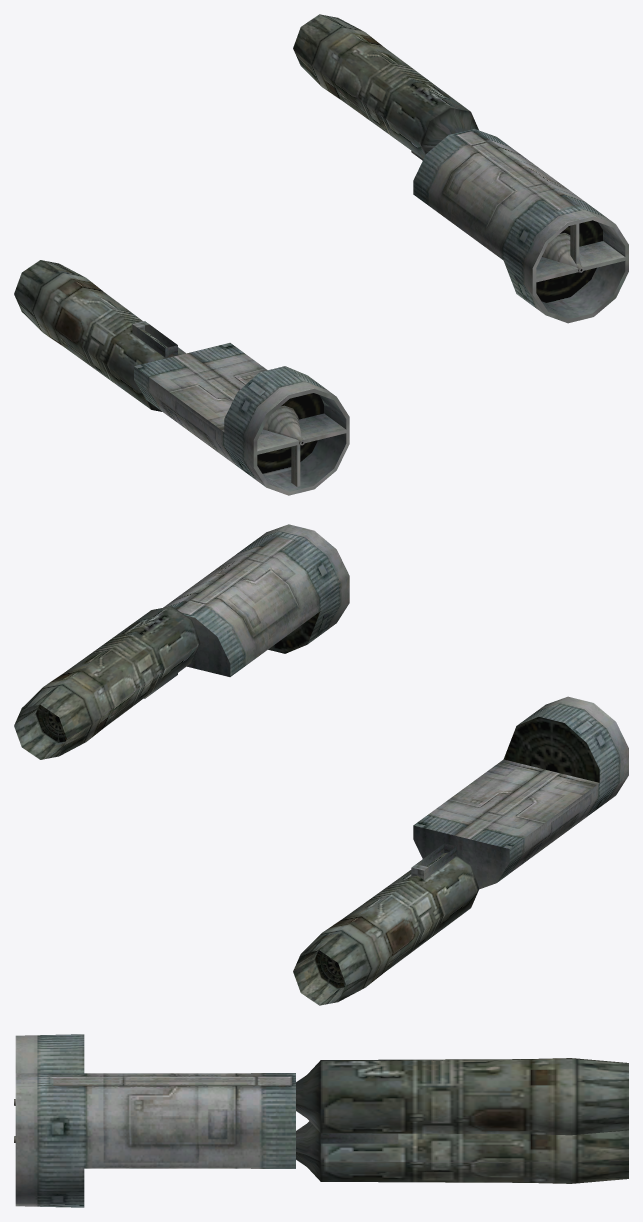
Rendered from xwing_engine_neg_s01_l0.fbx.
3 renders of one model, top to bottom at view 1: azimuth 30°, elevation 25°; view 2: azimuth 150°, elevation 25°; view 3: azimuth 270°, elevation 25°, orthographic. The views are drawn at different scales.
Visible parts, largest first — view 1: mesh_node; view 2: mesh_node; view 3: mesh_node.
Boxes of the visible parts, left/top/right/bottom form: mesh_node: left=14, top=14, right=628, bottom=495; mesh_node: left=14, top=524, right=628, bottom=1005; mesh_node: left=14, top=1034, right=628, bottom=1207.
Bounding box in the file's own units: 4.7 × 2.88 × 5.68.
Materials: 1 (1 with a texture image).
